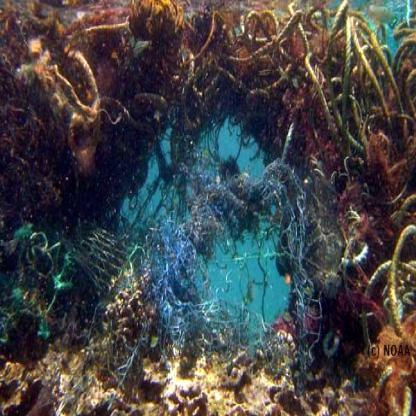net: (1, 4, 416, 372)
